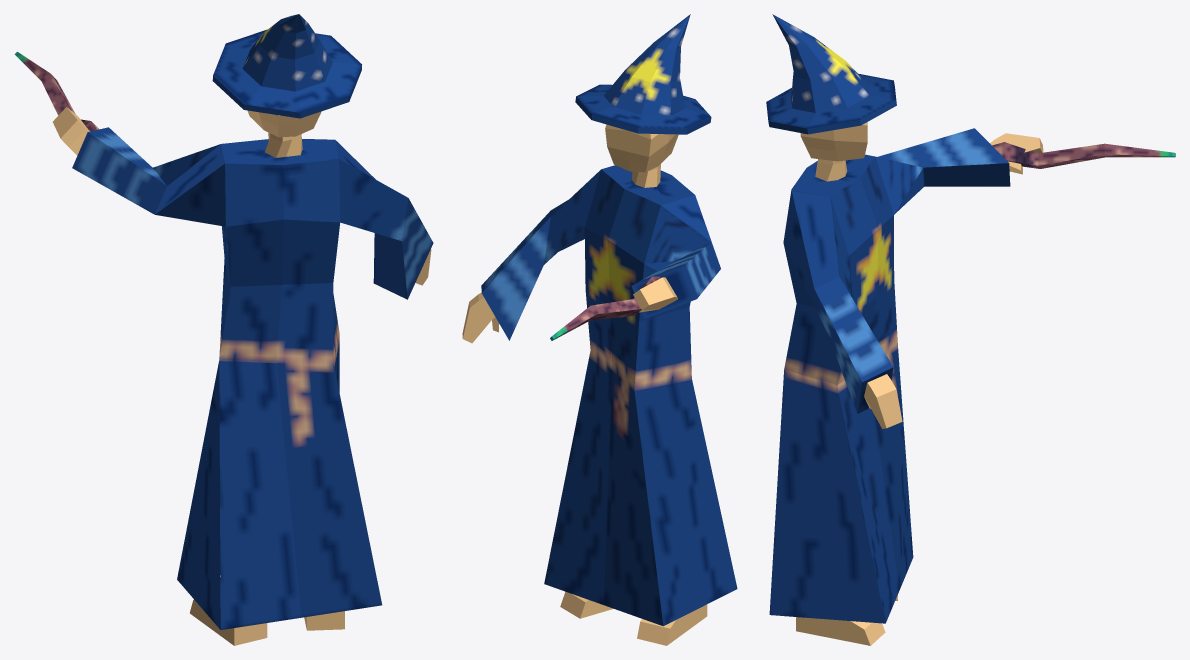
Rendered from wizard_wand.fbx.
The picture shows the model from 3 angles, left to right: view 1: azimuth 30°, elevation 25°; view 2: azimuth 150°, elevation 25°; view 3: azimuth 270°, elevation 25°; orthographic projection. The views are drawn at different scales.
Visible parts, largest first — view 1: Cube.023; view 2: Cube.023; view 3: Cube.023.
Boxes of the visible parts, <box> form: Cube.023: <box>14,14,433,645</box>; Cube.023: <box>462,14,737,645</box>; Cube.023: <box>766,14,1175,645</box>.
Size of the model in its own units: 178 by 354 by 222.
